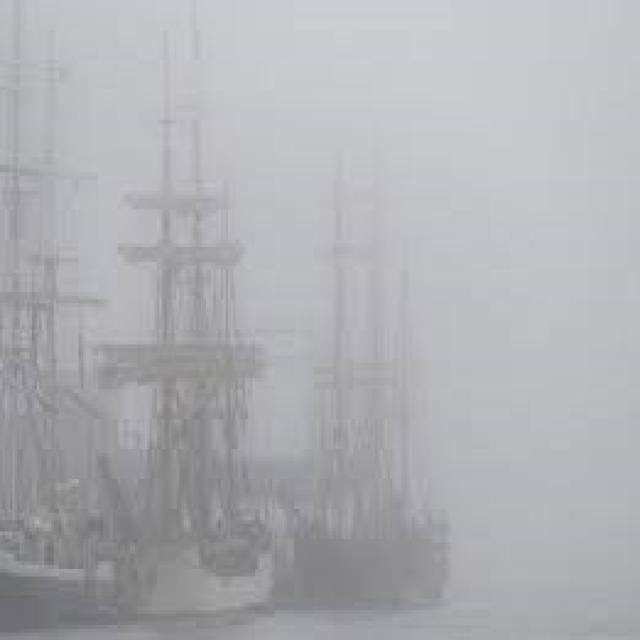fishing boat: (94, 20, 268, 610), (277, 92, 458, 621), (1, 19, 130, 620)
